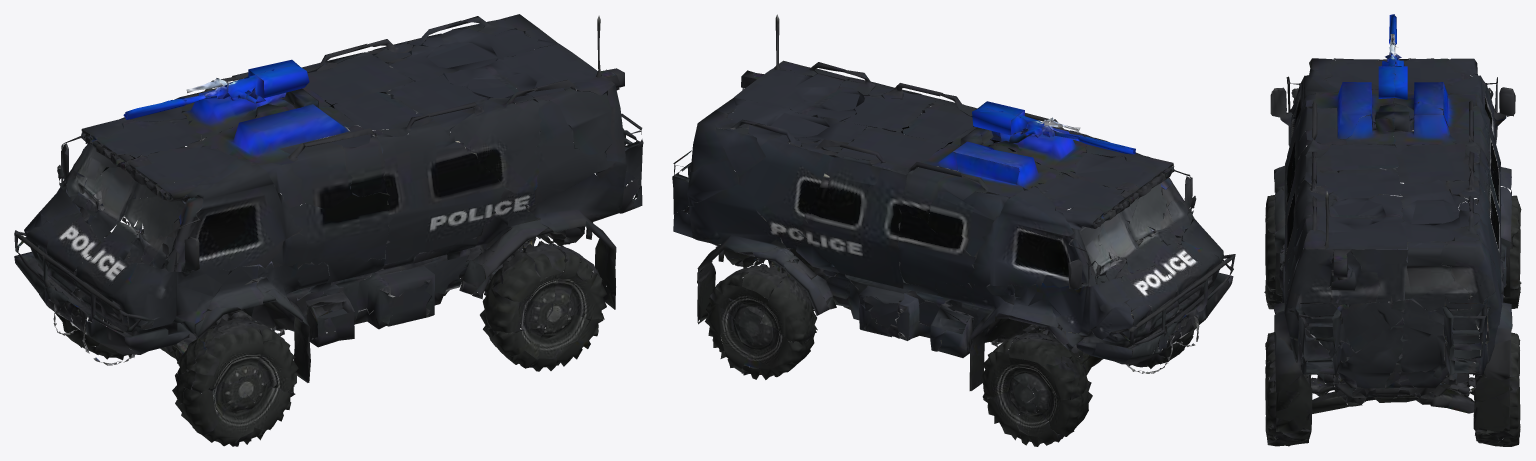
File: swat.glb
3 renders of one model, left to right at view 1: azimuth 30°, elevation 25°; view 2: azimuth 150°, elevation 25°; view 3: azimuth 270°, elevation 25°, orthographic. The views are drawn at different scales.
Parts seen in each view (by area): view 1: Mesh_0; view 2: Mesh_0; view 3: Mesh_0.
Part boxes in pixels (x1,y1,x2,y2): Mesh_0: (14, 14, 643, 446); Mesh_0: (672, 14, 1235, 446); Mesh_0: (1264, 14, 1521, 446).
Bounding box in the file's own units: 1.91 × 1.08 × 0.8892.
1 material, 1 textured.
